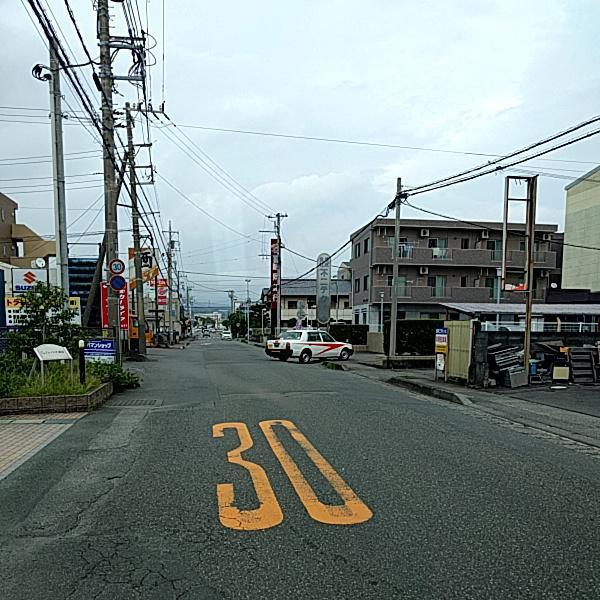D20: (60, 513, 225, 594)
D44: (195, 401, 390, 540)
